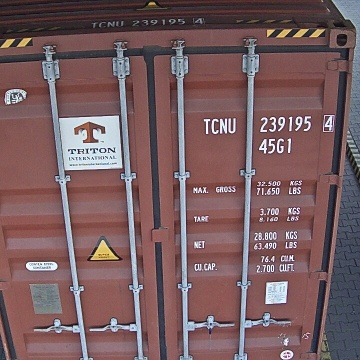serial_id: (204, 116, 334, 134)
